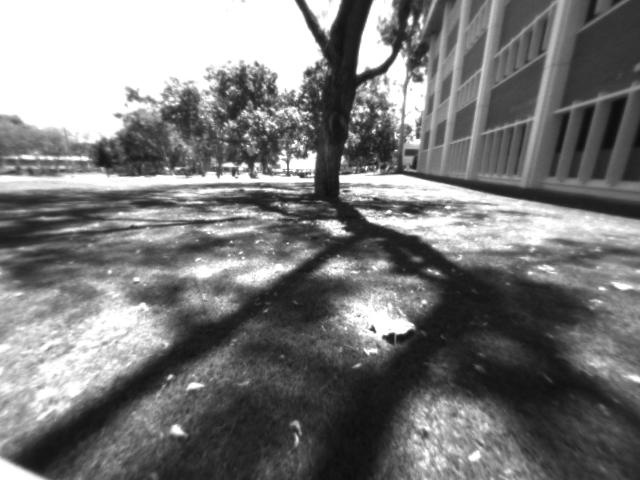dogtoy: (307, 226, 325, 245)
